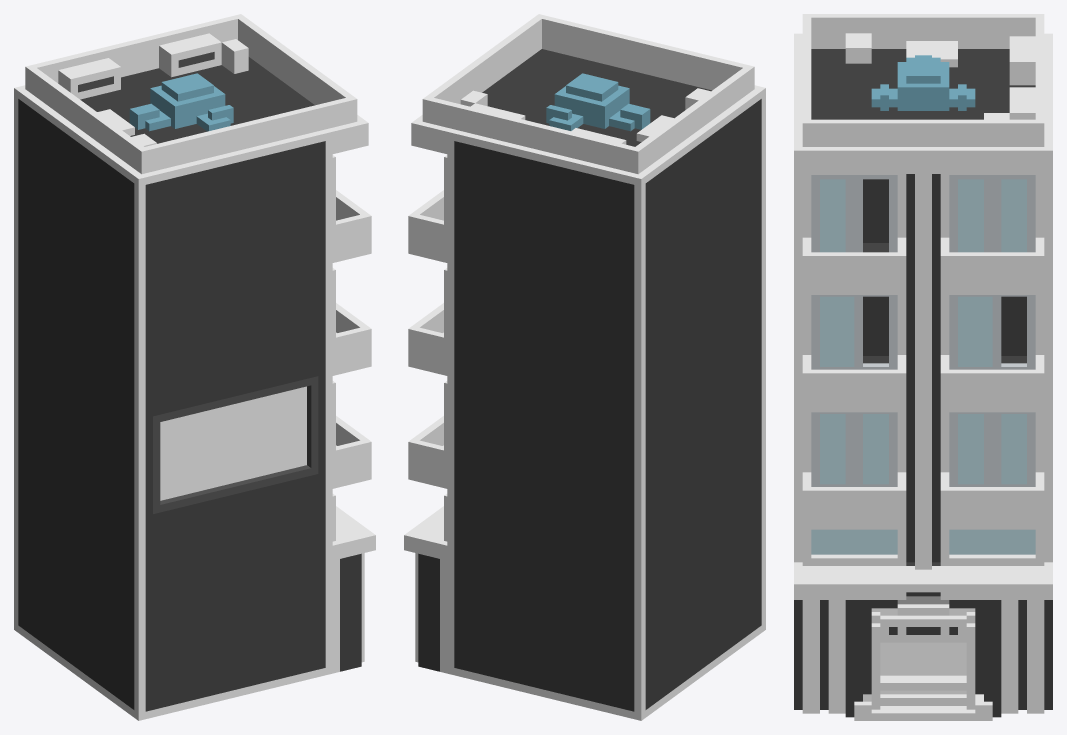
The model's file is Menu_Build_On.obj.
3 renders of one model, left to right at view 1: azimuth 30°, elevation 25°; view 2: azimuth 150°, elevation 25°; view 3: azimuth 270°, elevation 25°, orthographic. The views are drawn at different scales.
Bounding box in the file's own units: 34 × 75 × 30.
1 material, 1 textured.
